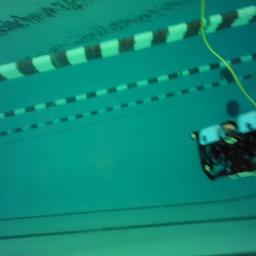front: (191, 110, 256, 186)
